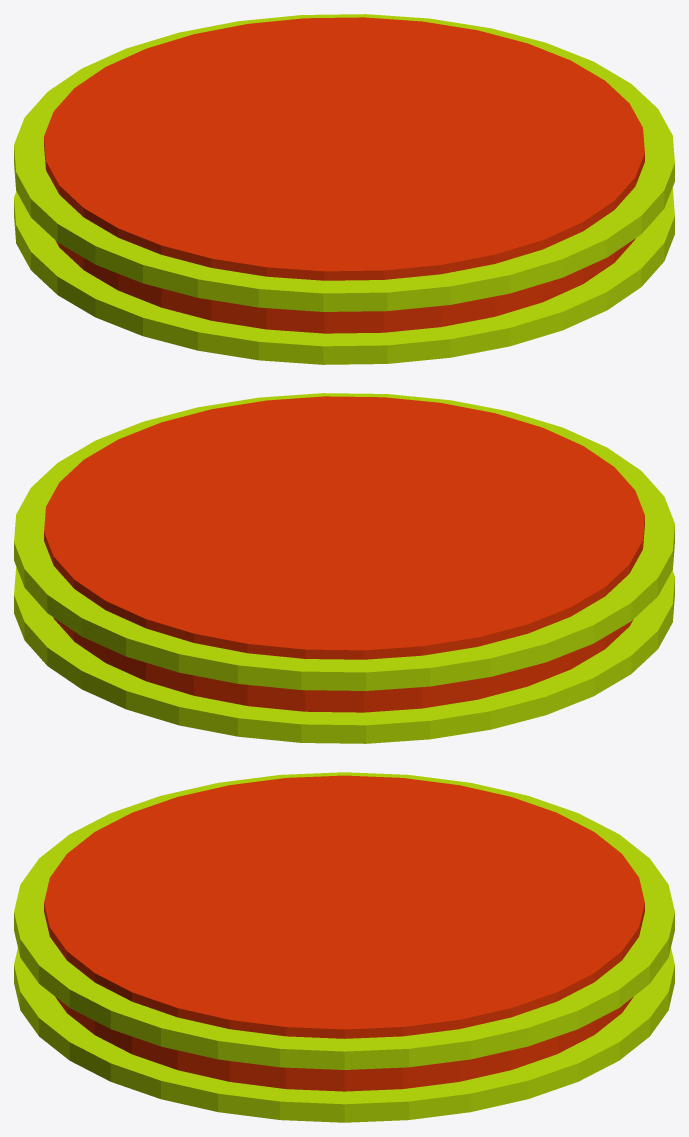
Rendered from TeleportPad.gltf.
The picture shows the model from 3 angles, top to bottom: view 1: azimuth 30°, elevation 25°; view 2: azimuth 150°, elevation 25°; view 3: azimuth 270°, elevation 25°; orthographic projection.
Visible parts, largest first — view 1: Cylinder, Cylinder.001, Cylinder.002; view 2: Cylinder, Cylinder.001, Cylinder.002; view 3: Cylinder, Cylinder.001, Cylinder.002.
Boxes of the visible parts, x1,y1,x2,y2 form: Cylinder: (44, 17, 644, 333); Cylinder.001: (14, 14, 674, 311); Cylinder.002: (14, 188, 674, 364); Cylinder: (44, 396, 644, 712); Cylinder.001: (14, 393, 674, 690); Cylinder.002: (14, 567, 674, 743); Cylinder: (44, 775, 644, 1091); Cylinder.001: (14, 772, 674, 1069); Cylinder.002: (14, 948, 674, 1122).
Size of the model in its own units: 2.2 by 0.3401 by 2.2.
